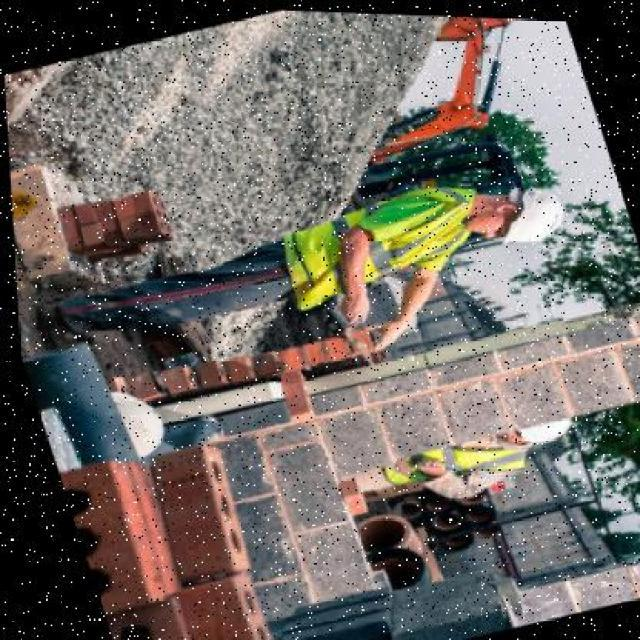helmet: (474, 165, 578, 255)
vest: (251, 176, 484, 301)
